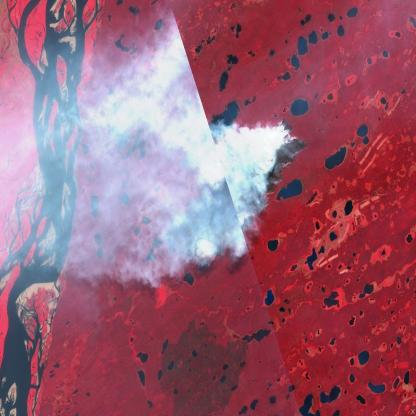fire: (160, 118, 310, 263)
